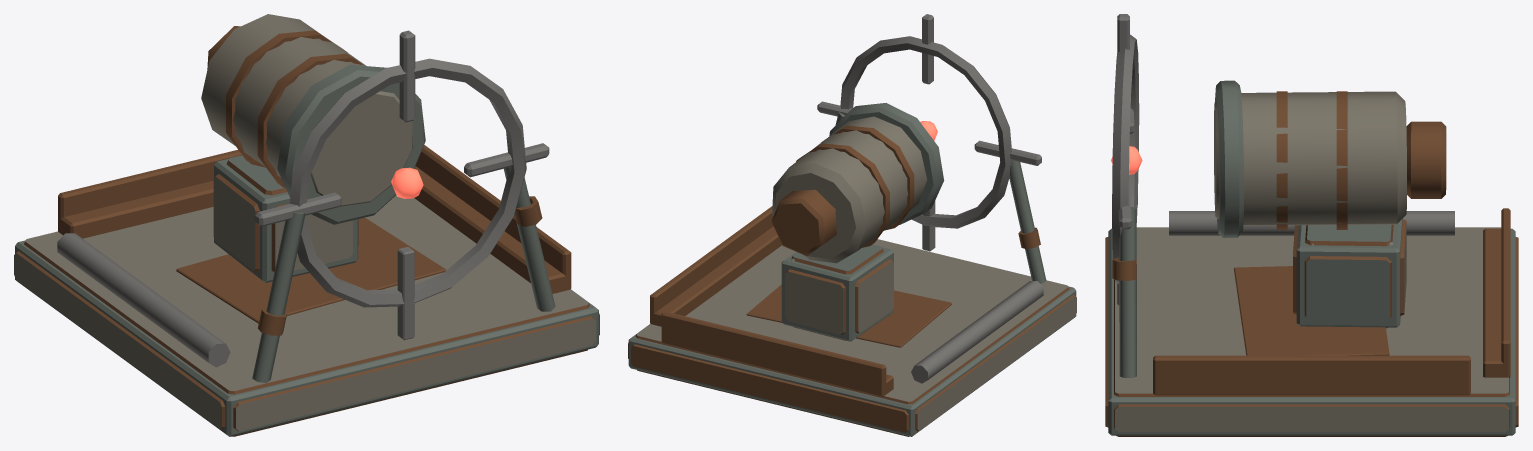
File: R4X_WeakPointScanner.fbx
3 views of the same model, side by side, from view 1: azimuth 30°, elevation 25°; view 2: azimuth 150°, elevation 25°; view 3: azimuth 270°, elevation 25° (orthographic). The views are drawn at different scales.
Visible parts, largest first — view 1: R4X_WeakPointScanner_Body; view 2: R4X_WeakPointScanner_Body; view 3: R4X_WeakPointScanner_Body.
Boxes of the visible parts, box(x1,y1,x2,y2) form: R4X_WeakPointScanner_Body: box(14, 14, 599, 436); R4X_WeakPointScanner_Body: box(628, 14, 1076, 436); R4X_WeakPointScanner_Body: box(1105, 14, 1518, 436).
Size of the model in its own units: 0.52 by 0.47 by 0.52.
